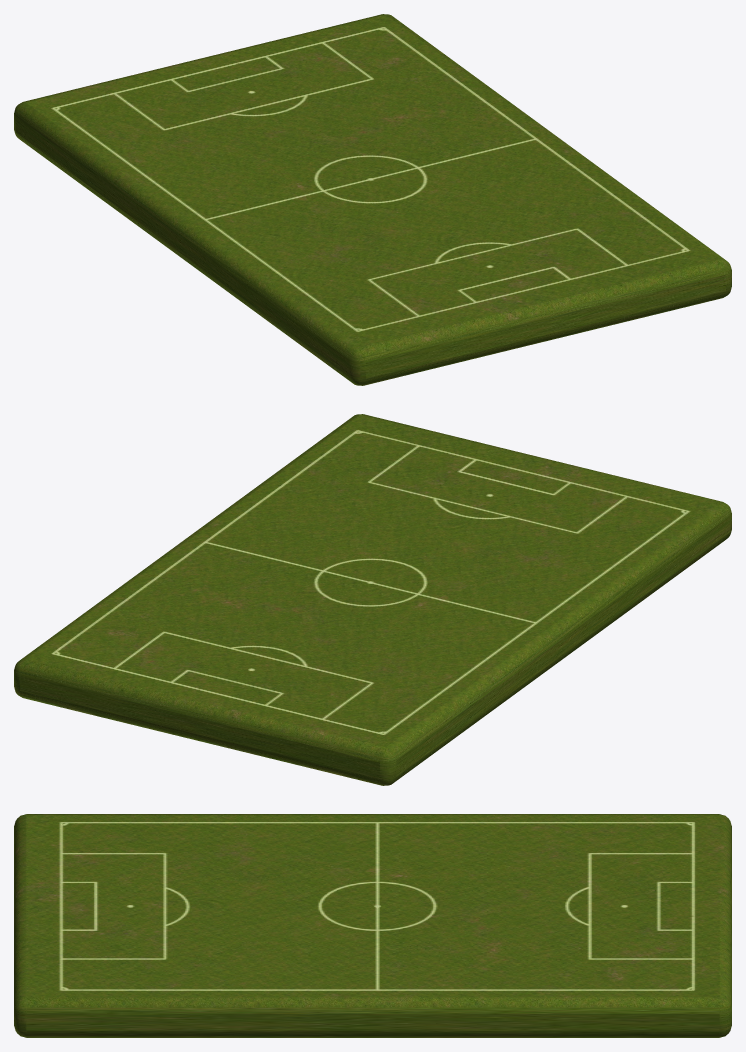
Rendered from soccer field.fbx.
3 views of the same model, one above another, from view 1: azimuth 30°, elevation 25°; view 2: azimuth 150°, elevation 25°; view 3: azimuth 270°, elevation 25° (orthographic). The views are drawn at different scales.
Parts seen in each view (by area): view 1: Cube; view 2: Cube; view 3: Cube.
Boxes of the visible parts, x1,y1,x2,y2 form: Cube: [14, 14, 731, 385]; Cube: [14, 414, 731, 785]; Cube: [14, 814, 731, 1037].
Size of the model in its own units: 1000 by 95.2 by 1575.
Materials: 1 (1 with a texture image).
